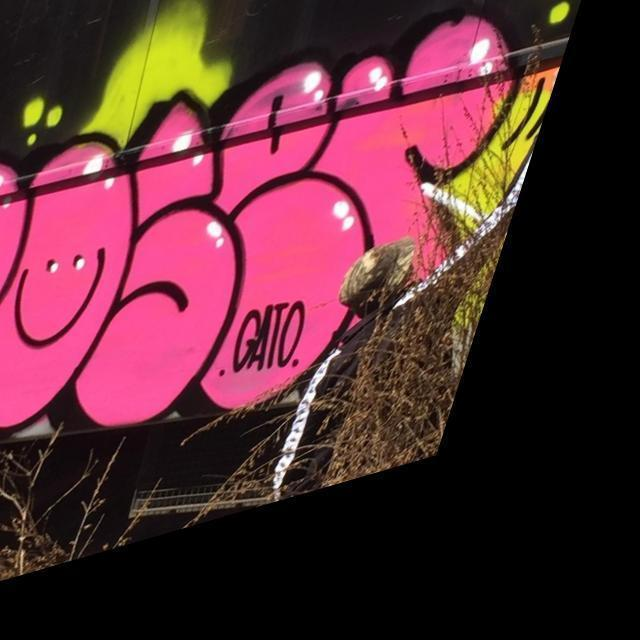nonspitting: (0, 13, 513, 426), (232, 298, 305, 370)
